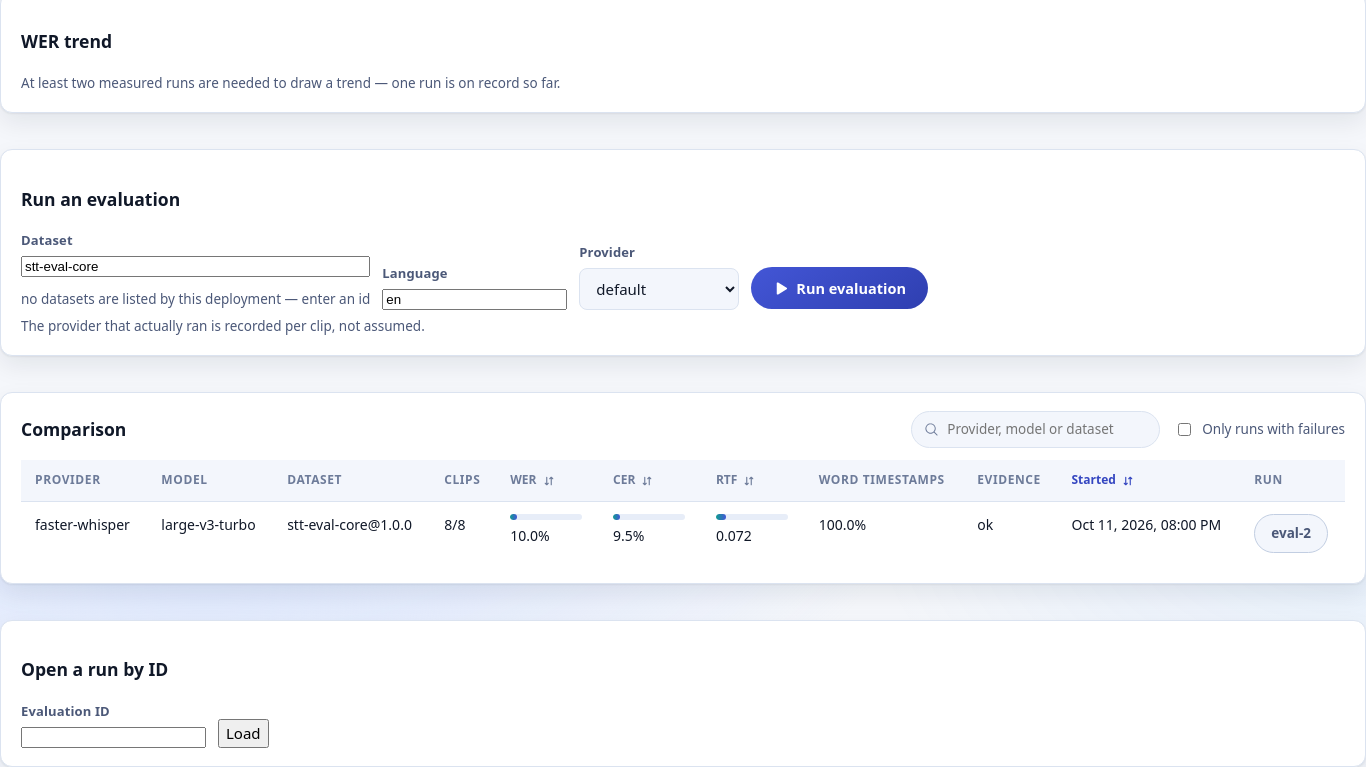
a deployment without artifact storage is stated, not hidden
This screenshot has width=1366, height=767.
(page scrolled)
Click the button "eval-2" at coordinates (1291, 533), box [1254,514,1328,553]
(page scrolled)
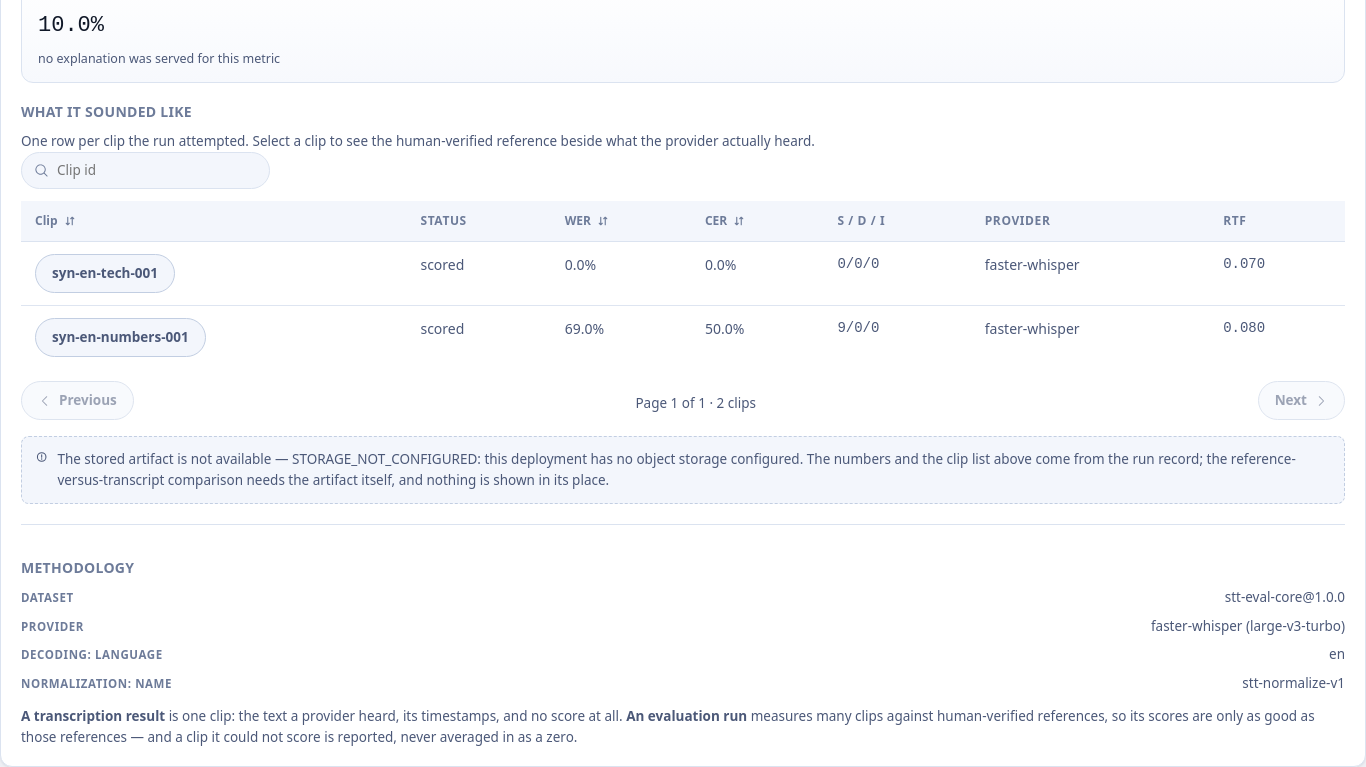
Check: the element with test id "artifact-note" shows "STORAGE_NOT_CONFIGURED", box [272,450,800,468]
Check: the element with test id "artifact-note" shows "no object storage configured", box [272,450,800,468]
